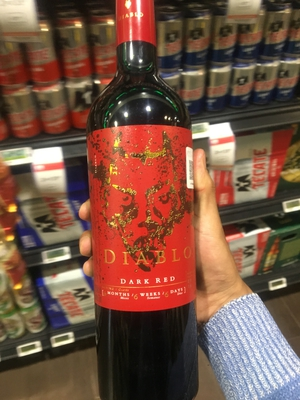diablo dark red: (73, 5, 208, 392)
